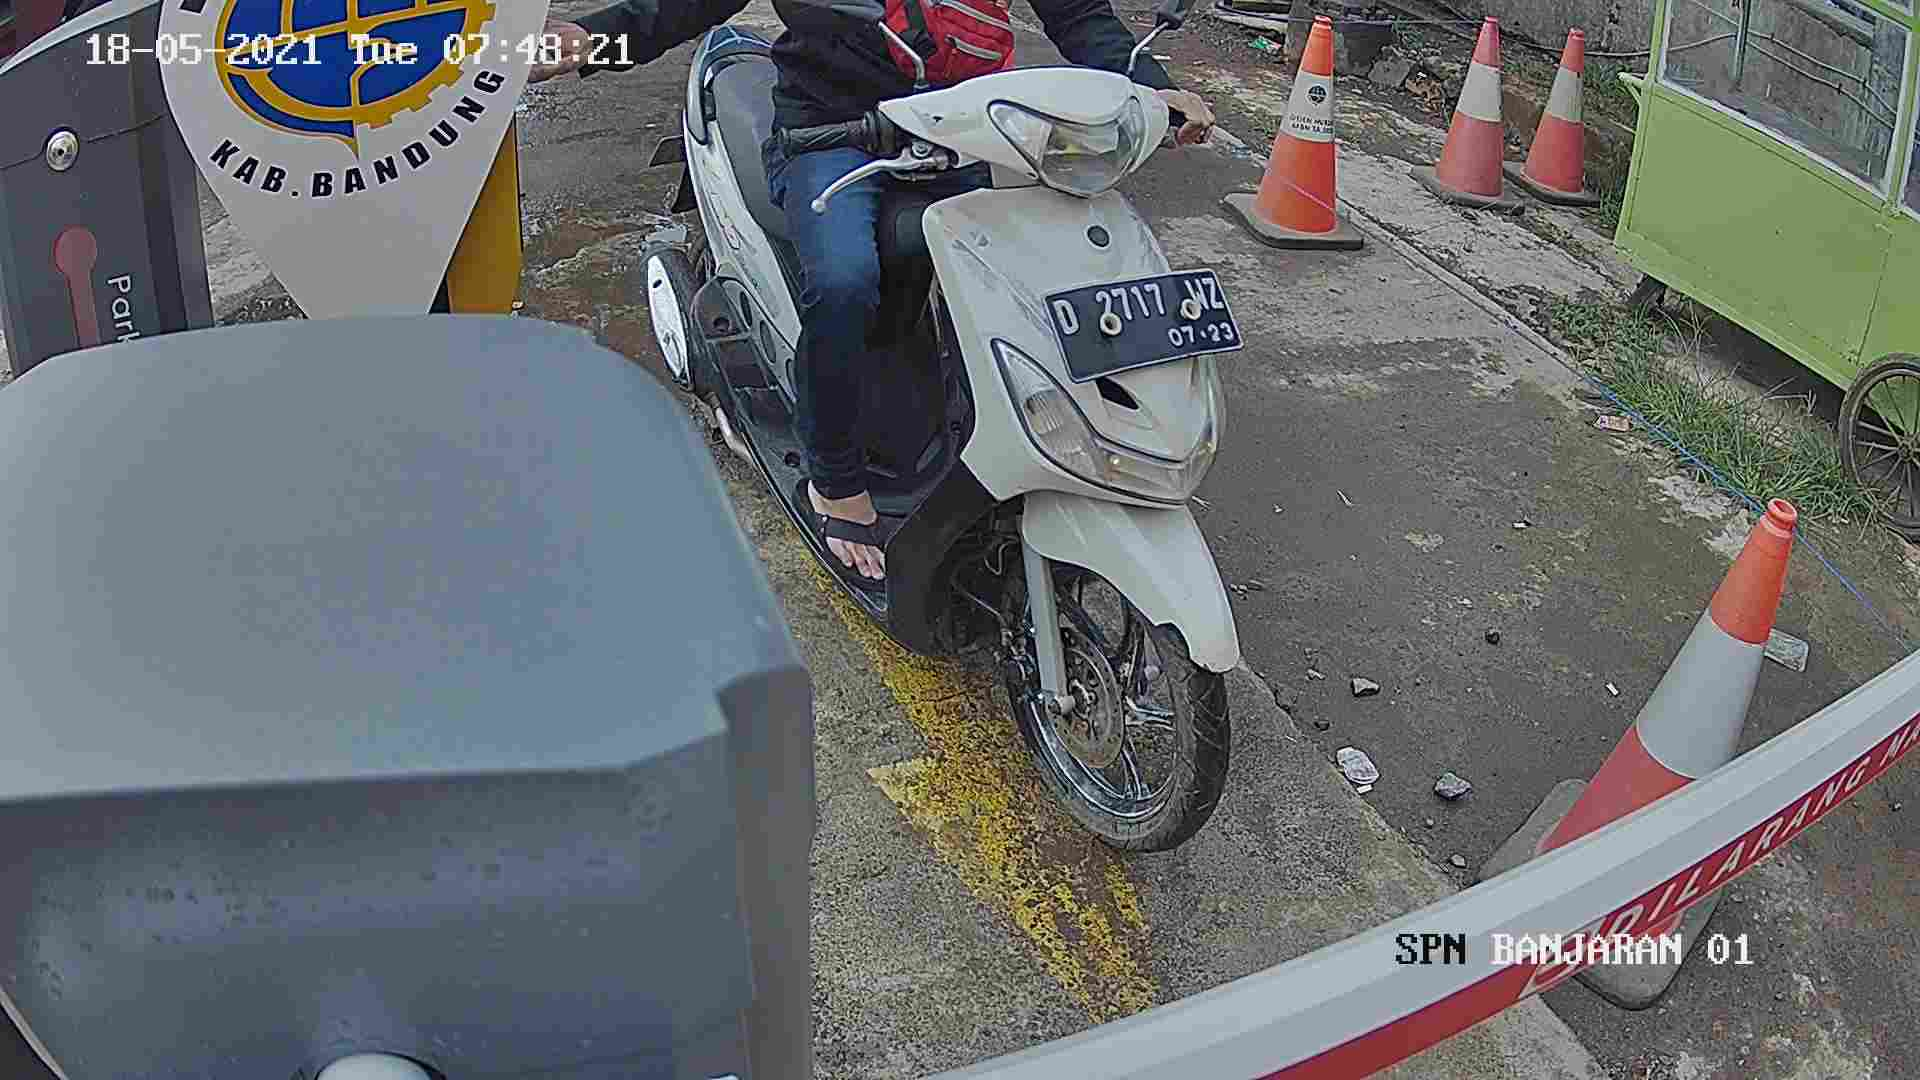motor: (644, 28, 1254, 862)
